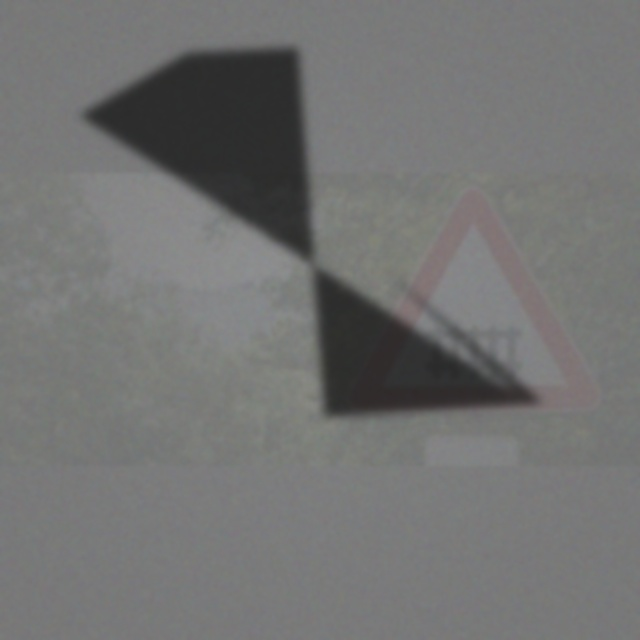Guarded_Level_Crossing: (355, 189, 604, 416)
